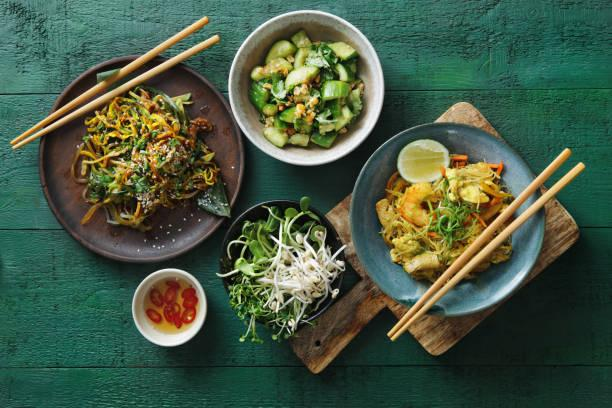Braised Crucian Carp: (37, 54, 239, 263), (349, 121, 544, 317), (226, 10, 383, 167), (218, 200, 343, 333)
